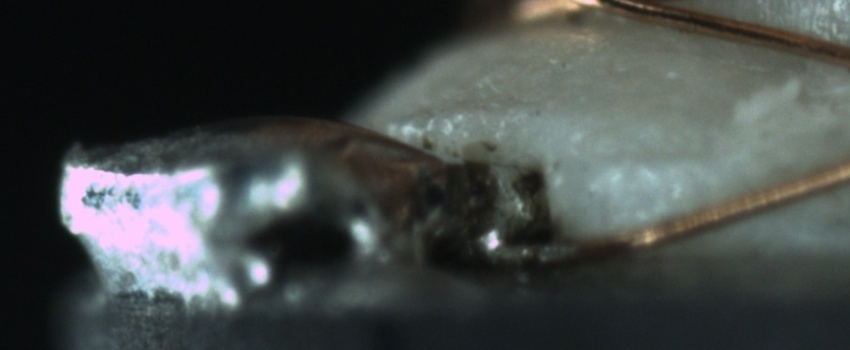DL: (581, 128, 718, 190)
